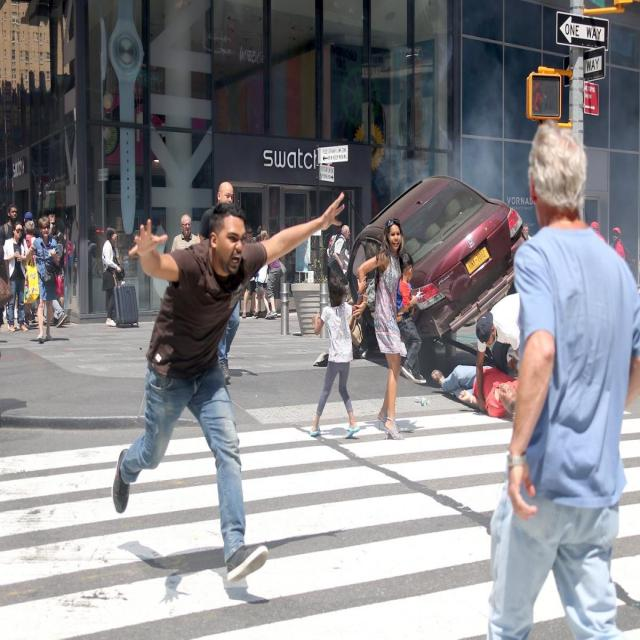body: (108, 186, 350, 587), (480, 116, 640, 639), (352, 217, 414, 443), (306, 271, 368, 439), (198, 180, 241, 383), (475, 291, 521, 413), (430, 364, 520, 419), (393, 249, 428, 386), (31, 213, 62, 345), (3, 218, 31, 333), (42, 223, 68, 329), (260, 232, 288, 318), (0, 202, 17, 328), (101, 226, 122, 328), (323, 224, 351, 290), (0, 226, 13, 367), (14, 286, 57, 326), (241, 225, 259, 319), (254, 229, 272, 319), (48, 216, 65, 311), (63, 223, 77, 321), (170, 212, 201, 255), (245, 282, 275, 314), (23, 219, 38, 266), (610, 224, 627, 261), (250, 223, 268, 250), (28, 220, 45, 242), (589, 221, 606, 242), (46, 212, 57, 237), (521, 221, 532, 242), (22, 211, 34, 224)
